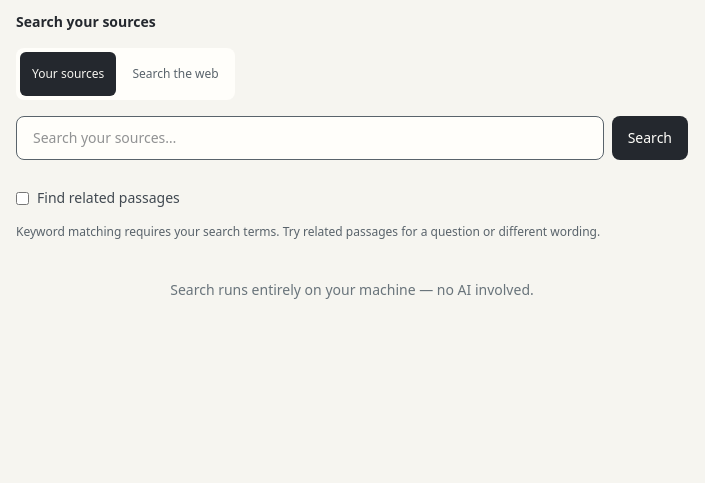
Test: search zero-results offers Clear search + mode toggle
In the search field with placeholder "Search your sources…": point(310, 138) 16,116 -> 604,160, type "zzz-no-match"
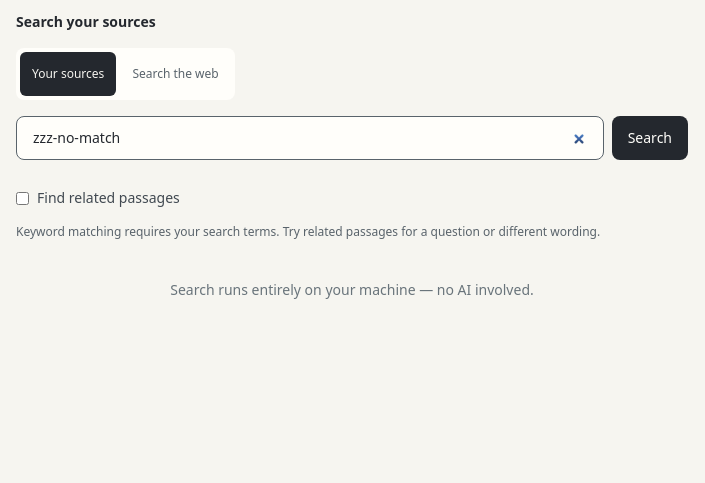
Click the button with aria-label "Submit search": point(650, 138) 612,116 -> 688,160
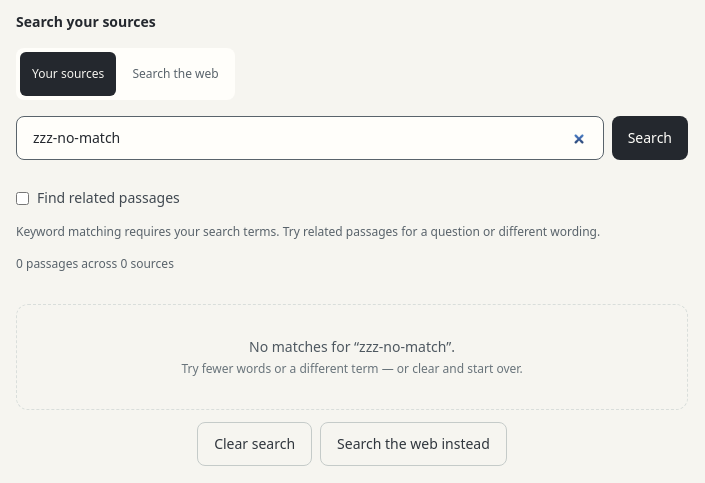
Now the button "Clear search" is shown, box 197,422 -> 312,466
Now the button "Search the web instead" is shown, box 320,422 -> 507,466
